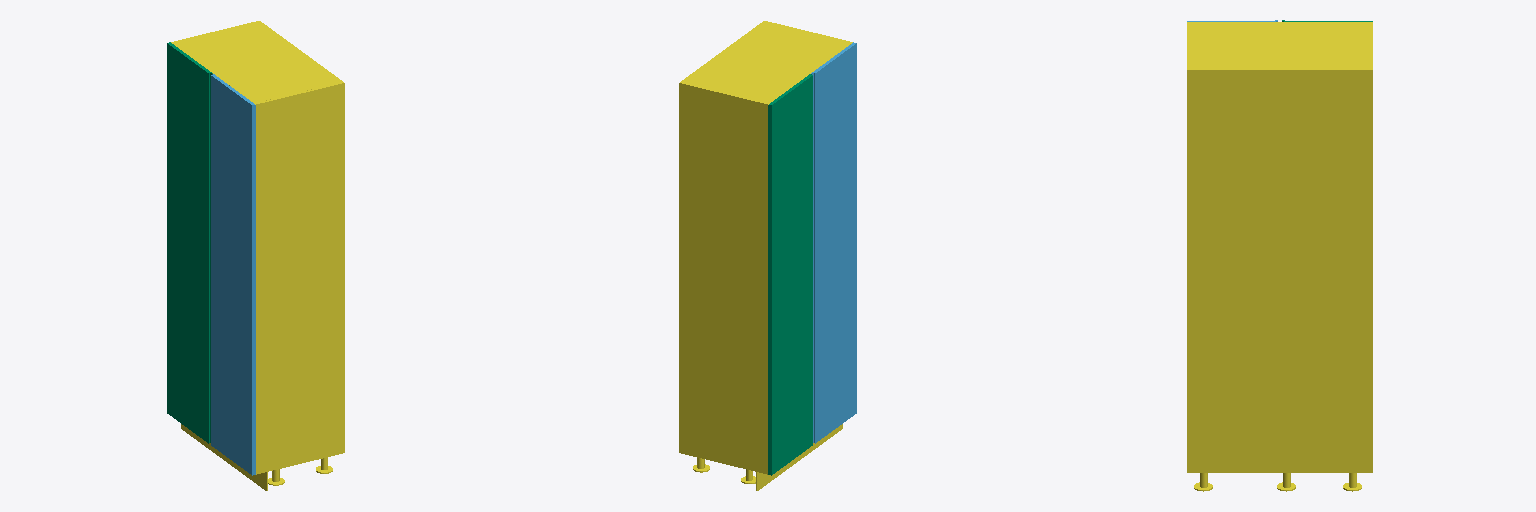
The robot description file, URDF, robot "partnet_60d7e8aba1f692a8c2185cc0ca1b306b":
<?xml version="1.0" ?>
<robot name="partnet_60d7e8aba1f692a8c2185cc0ca1b306b">
	<link name="base"/>
	<link name="link_0">
		<visual name="cabinet_door_surface-7">
			<origin xyz="-0.3639398108362385 0 -0.20719063543893496"/>
			<geometry>
				<mesh filename="textured_objs/original-6.obj"/>
			</geometry>
		</visual>
		<visual name="cabinet_door_surface-7">
			<origin xyz="-0.3639398108362385 0 -0.20719063543893496"/>
			<geometry>
				<mesh filename="textured_objs/original-16.obj"/>
			</geometry>
		</visual>
		<collision>
			<origin xyz="-0.3639398108362385 0 -0.20719063543893496"/>
			<geometry>
				<mesh filename="textured_objs/original-6.obj"/>
			</geometry>
		</collision>
		<collision>
			<origin xyz="-0.3639398108362385 0 -0.20719063543893496"/>
			<geometry>
				<mesh filename="textured_objs/original-16.obj"/>
			</geometry>
		</collision>
	</link>
	<joint name="joint_0" type="revolute">
		<origin xyz="0.3639398108362385 0 0.20719063543893496"/>
		<axis xyz="0 1 0"/>
		<child link="link_0"/>
		<parent link="link_2"/>
		<limit lower="0.0" upper="1.5707963267948966"/>
	</joint>
	<link name="link_1">
		<visual name="cabinet_door_surface-6">
			<origin xyz="0.36868020266827917 0 -0.21707589132878638"/>
			<geometry>
				<mesh filename="textured_objs/original-5.obj"/>
			</geometry>
		</visual>
		<visual name="cabinet_door_surface-6">
			<origin xyz="0.36868020266827917 0 -0.21707589132878638"/>
			<geometry>
				<mesh filename="textured_objs/original-9.obj"/>
			</geometry>
		</visual>
		<collision>
			<origin xyz="0.36868020266827917 0 -0.21707589132878638"/>
			<geometry>
				<mesh filename="textured_objs/original-5.obj"/>
			</geometry>
		</collision>
		<collision>
			<origin xyz="0.36868020266827917 0 -0.21707589132878638"/>
			<geometry>
				<mesh filename="textured_objs/original-9.obj"/>
			</geometry>
		</collision>
	</link>
	<joint name="joint_1" type="revolute">
		<origin xyz="-0.36868020266827917 0 0.21707589132878638"/>
		<axis xyz="0 -1 0"/>
		<child link="link_1"/>
		<parent link="link_2"/>
		<limit lower="-0.0" upper="1.5707963267948966"/>
	</joint>
	<link name="link_2">
		<visual name="vertical_side_panel-17">
			<origin xyz="0 0 0"/>
			<geometry>
				<mesh filename="textured_objs/original-7.obj"/>
			</geometry>
		</visual>
		<visual name="vertical_side_panel-18">
			<origin xyz="0 0 0"/>
			<geometry>
				<mesh filename="textured_objs/original-8.obj"/>
			</geometry>
		</visual>
		<visual name="back_panel-19">
			<origin xyz="0 0 0"/>
			<geometry>
				<mesh filename="textured_objs/original-4.obj"/>
			</geometry>
		</visual>
		<visual name="bottom_panel-20">
			<origin xyz="0 0 0"/>
			<geometry>
				<mesh filename="textured_objs/original-1.obj"/>
			</geometry>
		</visual>
		<visual name="top_panel-21">
			<origin xyz="0 0 0"/>
			<geometry>
				<mesh filename="textured_objs/original-2.obj"/>
			</geometry>
		</visual>
		<visual name="foot-9">
			<origin xyz="0 0 0"/>
			<geometry>
				<mesh filename="textured_objs/original-12.obj"/>
			</geometry>
		</visual>
		<visual name="foot-10">
			<origin xyz="0 0 0"/>
			<geometry>
				<mesh filename="textured_objs/original-11.obj"/>
			</geometry>
		</visual>
		<visual name="foot-11">
			<origin xyz="0 0 0"/>
			<geometry>
				<mesh filename="textured_objs/original-10.obj"/>
			</geometry>
		</visual>
		<visual name="foot-12">
			<origin xyz="0 0 0"/>
			<geometry>
				<mesh filename="textured_objs/original-15.obj"/>
			</geometry>
		</visual>
		<visual name="foot-13">
			<origin xyz="0 0 0"/>
			<geometry>
				<mesh filename="textured_objs/original-13.obj"/>
			</geometry>
		</visual>
		<visual name="foot-14">
			<origin xyz="0 0 0"/>
			<geometry>
				<mesh filename="textured_objs/original-14.obj"/>
			</geometry>
		</visual>
		<visual name="other_leaf-16">
			<origin xyz="0 0 0"/>
			<geometry>
				<mesh filename="textured_objs/original-3.obj"/>
			</geometry>
		</visual>
		<collision>
			<origin xyz="0 0 0"/>
			<geometry>
				<mesh filename="textured_objs/original-7.obj"/>
			</geometry>
		</collision>
		<collision>
			<origin xyz="0 0 0"/>
			<geometry>
				<mesh filename="textured_objs/original-8.obj"/>
			</geometry>
		</collision>
		<collision>
			<origin xyz="0 0 0"/>
			<geometry>
				<mesh filename="textured_objs/original-4.obj"/>
			</geometry>
		</collision>
		<collision>
			<origin xyz="0 0 0"/>
			<geometry>
				<mesh filename="textured_objs/original-1.obj"/>
			</geometry>
		</collision>
		<collision>
			<origin xyz="0 0 0"/>
			<geometry>
				<mesh filename="textured_objs/original-2.obj"/>
			</geometry>
		</collision>
		<collision>
			<origin xyz="0 0 0"/>
			<geometry>
				<mesh filename="textured_objs/original-12.obj"/>
			</geometry>
		</collision>
		<collision>
			<origin xyz="0 0 0"/>
			<geometry>
				<mesh filename="textured_objs/original-11.obj"/>
			</geometry>
		</collision>
		<collision>
			<origin xyz="0 0 0"/>
			<geometry>
				<mesh filename="textured_objs/original-10.obj"/>
			</geometry>
		</collision>
		<collision>
			<origin xyz="0 0 0"/>
			<geometry>
				<mesh filename="textured_objs/original-15.obj"/>
			</geometry>
		</collision>
		<collision>
			<origin xyz="0 0 0"/>
			<geometry>
				<mesh filename="textured_objs/original-13.obj"/>
			</geometry>
		</collision>
		<collision>
			<origin xyz="0 0 0"/>
			<geometry>
				<mesh filename="textured_objs/original-14.obj"/>
			</geometry>
		</collision>
		<collision>
			<origin xyz="0 0 0"/>
			<geometry>
				<mesh filename="textured_objs/original-3.obj"/>
			</geometry>
		</collision>
	</link>
	<joint name="joint_2" type="fixed">
		<origin rpy="1.570796326794897 0 -1.570796326794897" xyz="0 0 0"/>
		<child link="link_2"/>
		<parent link="base"/>
	</joint>
</robot>

--- Facts derived from the render (not from the file) ---
Views: 3 orthographic renders of the robot side by side, from view 1: azimuth 30°, elevation 25°; view 2: azimuth 150°, elevation 25°; view 3: azimuth 270°, elevation 25°.
Model partnet_60d7e8aba1f692a8c2185cc0ca1b306b with 4 links and 3 joints (2 revolute, 1 fixed), rooted at base, posed all joints at 0.
Visible links, largest first — view 1: link_2, link_0, link_1; view 2: link_2, link_1, link_0; view 3: link_2.
Link boxes in pixels (x1,y1,x2,y2): link_2: (171,21,344,490); link_0: (211,74,255,475); link_1: (167,42,212,443); link_2: (679,21,852,490); link_1: (768,74,812,475); link_0: (811,42,856,443); link_2: (1187,22,1372,491).
Bounding box of the posed robot: 0.4576 × 0.7285 × 1.84 m (x, y, z).
Meshes: 16 distinct files referenced, 16 mesh visuals loaded (16 OBJ).